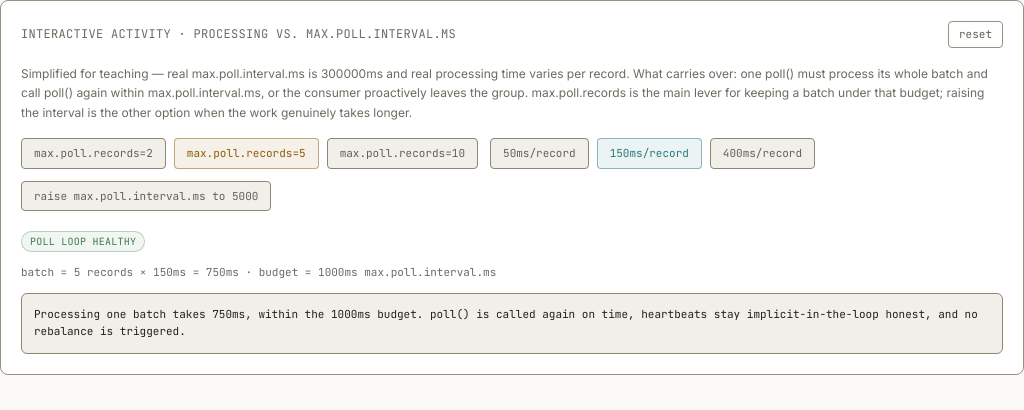
Test: PollIntervalDemo › a slow batch that exceeds the interval forces the consumer out of the group
The width and height of the screenshot is (1024, 410).
Click the button "400ms/record": [762, 153] box [710, 138, 815, 168]
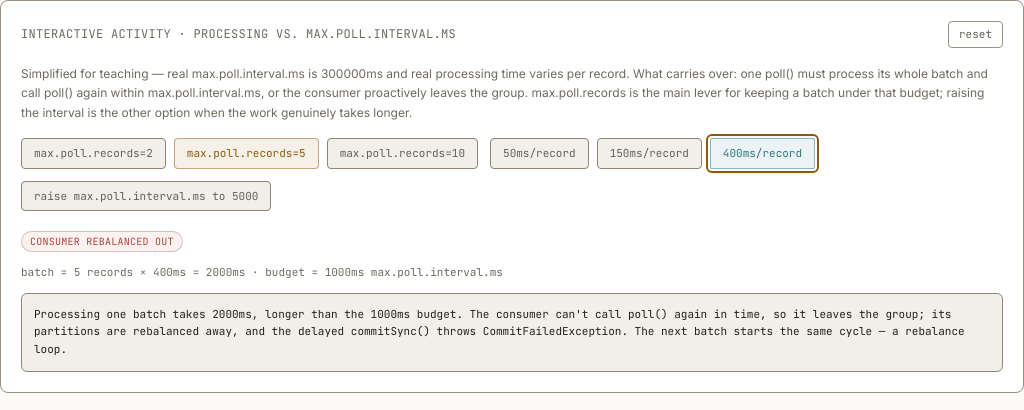
Expected: the text with test id "batch-time" shows "= 2000ms", [21, 265, 503, 279]
Expected: the text "consumer rebalanced out" is shown, [21, 231, 183, 252]
Expected: the text with test id "poll-outcome" shows "a rebalance loop", [34, 306, 965, 356]
